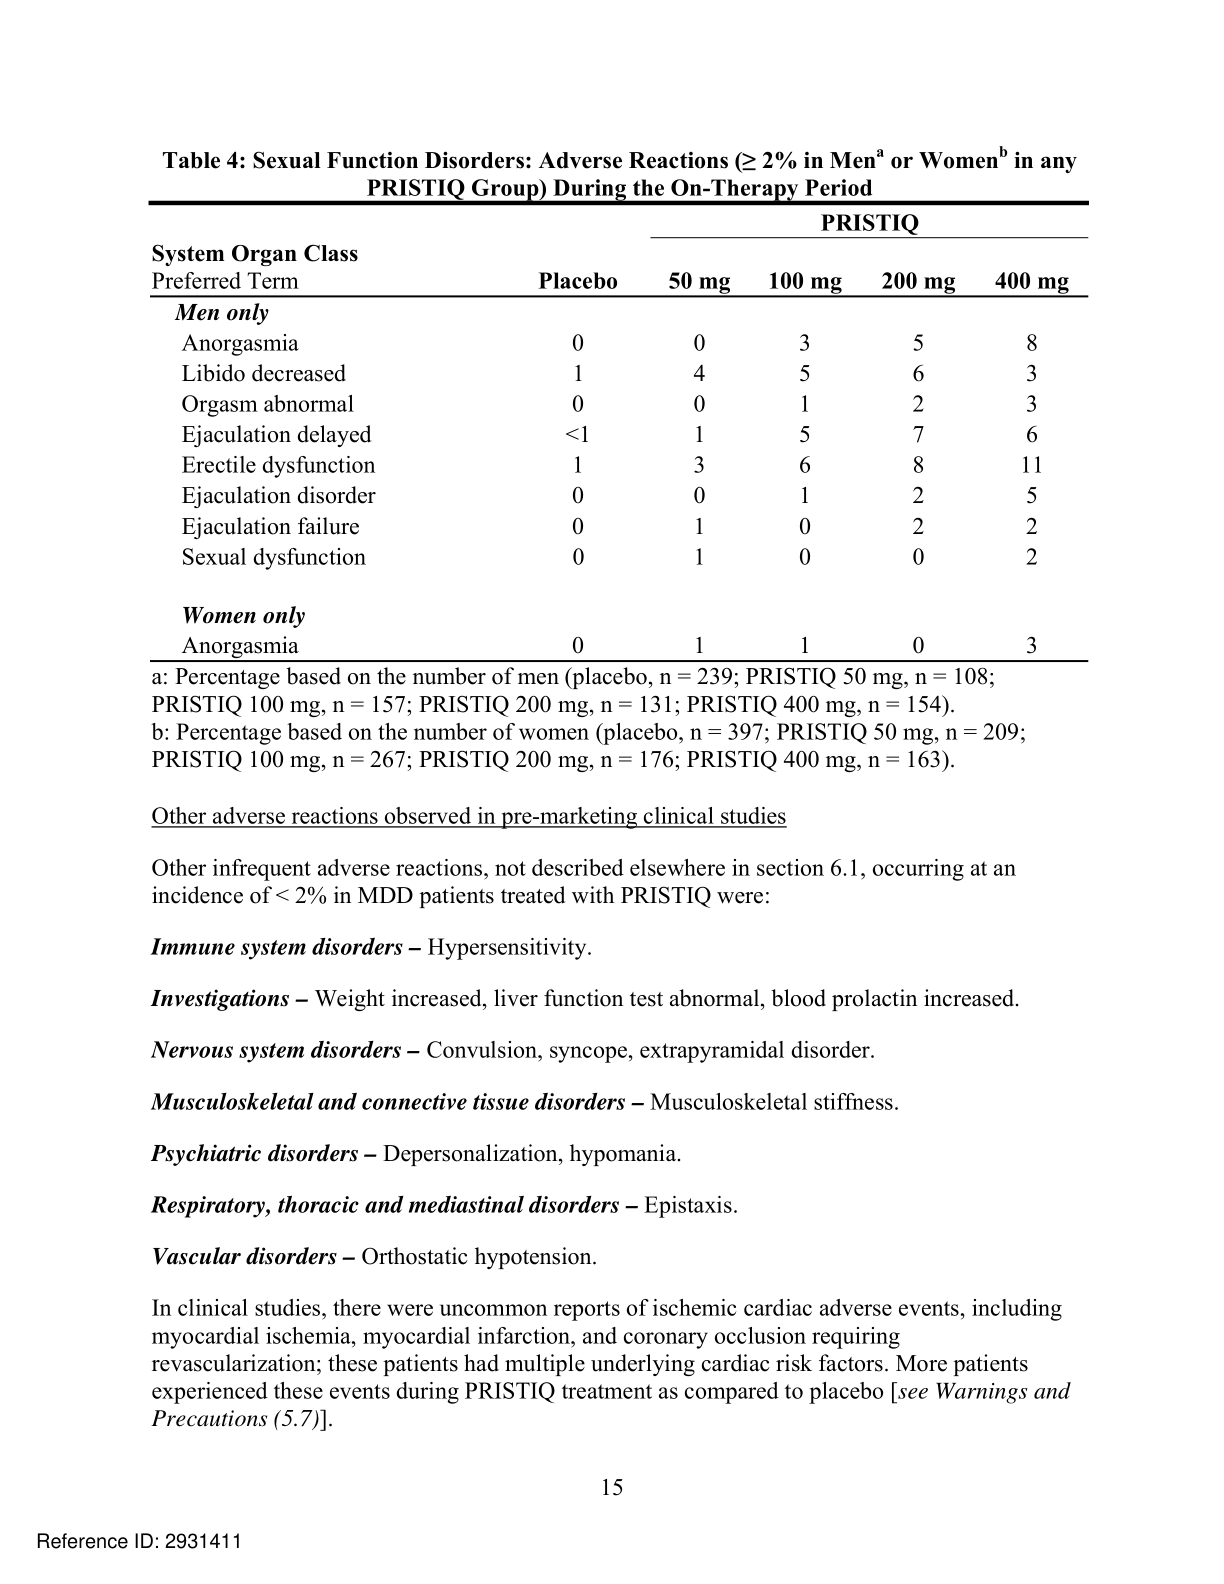partial_lined_merged_cells: (145, 199, 1092, 663)
